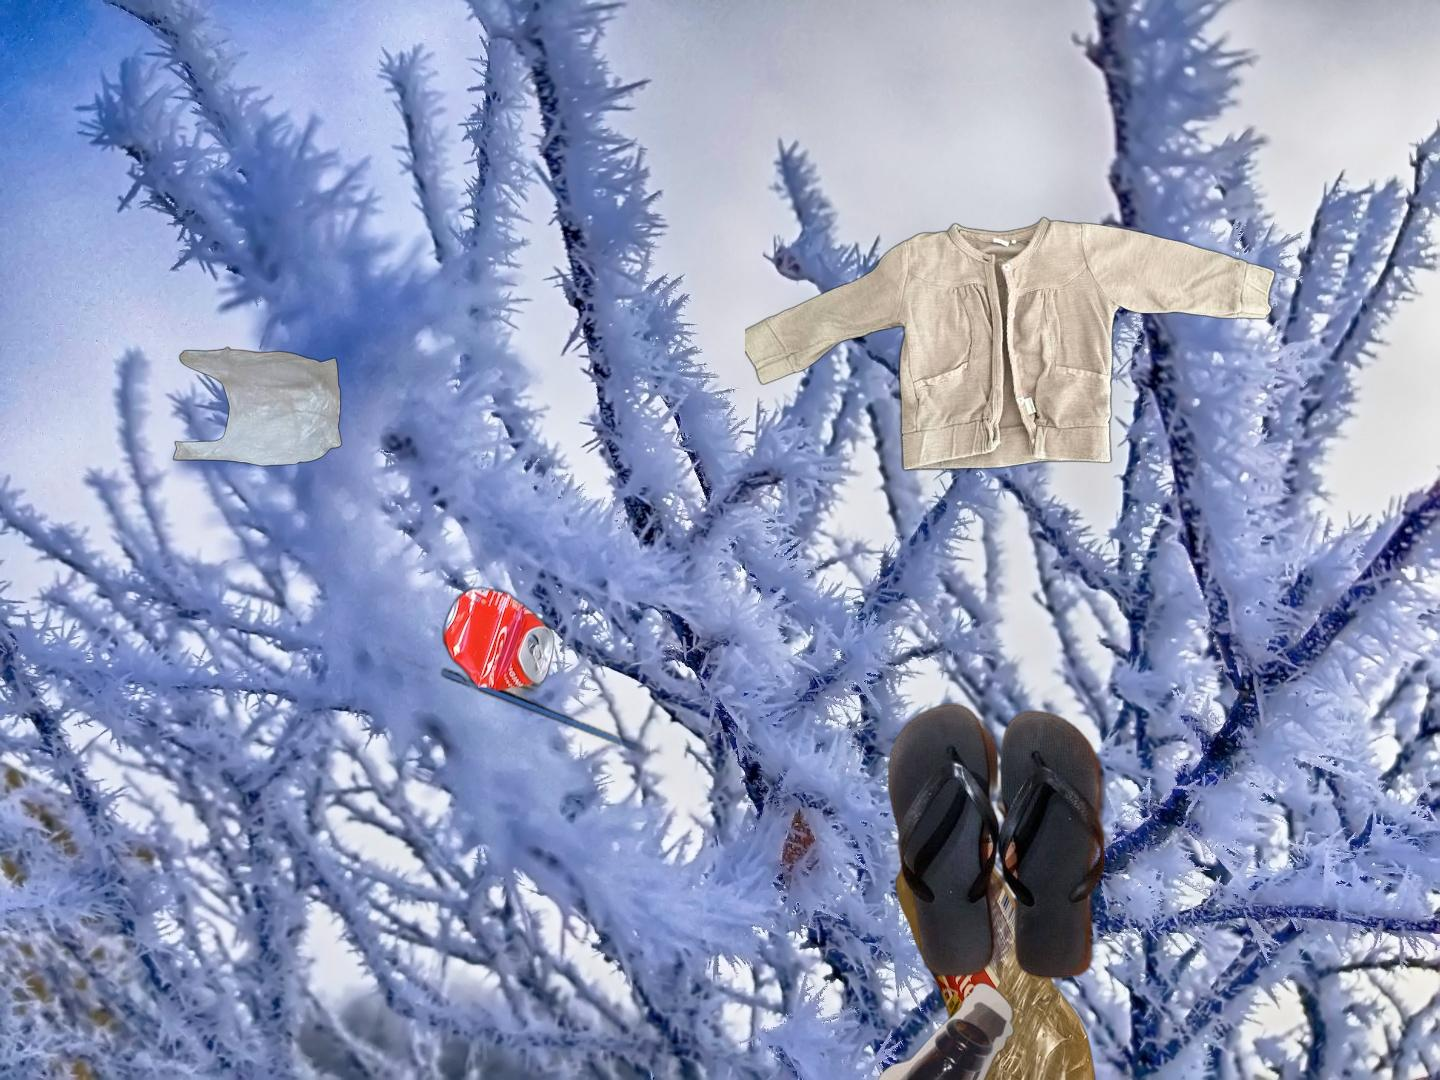clothes: (745, 127, 1278, 474)
glass: (779, 981, 1018, 1080)
metal-cans: (138, 582, 650, 792)
plastic-bag: (170, 344, 344, 469)
plastic-bottles: (893, 791, 1116, 1080)
shoes: (886, 699, 1119, 1073)
